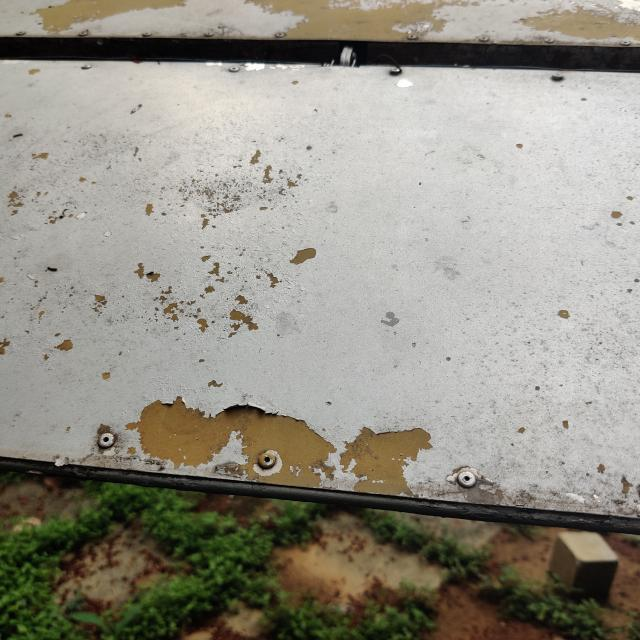Paint-off: (127, 398, 431, 496)
